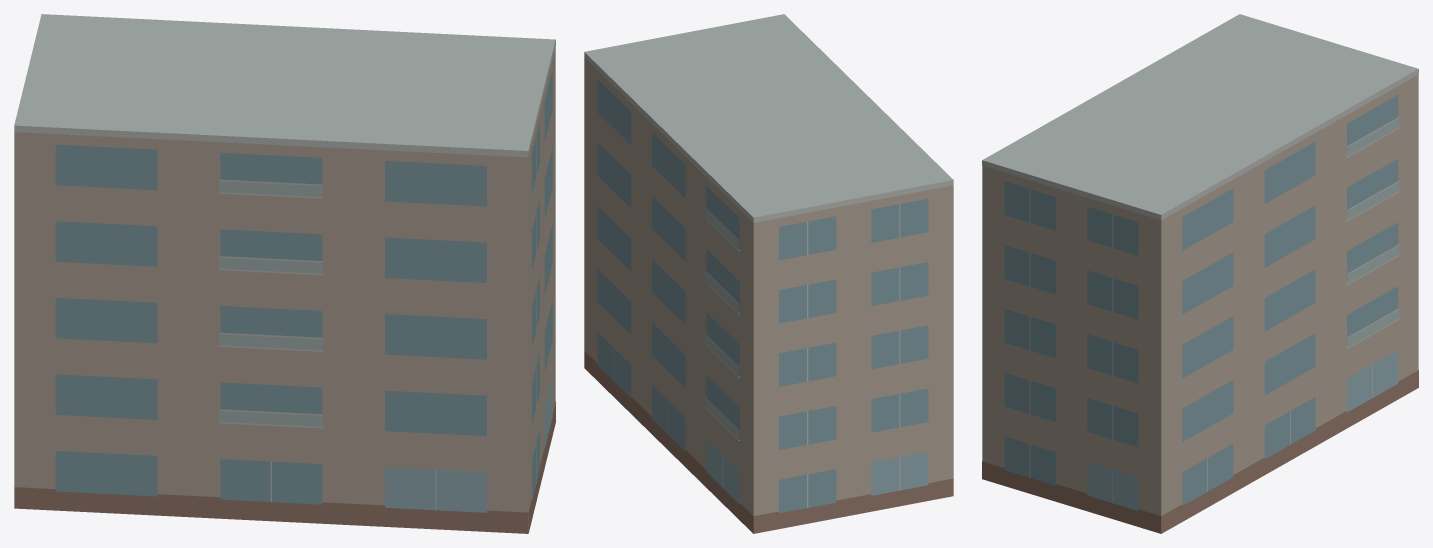
File: survey-upis-32656904.glb
3 views of the same model, side by side, from view 1: azimuth 30°, elevation 25°; view 2: azimuth 150°, elevation 25°; view 3: azimuth 270°, elevation 25° (orthographic). The views are drawn at different scales.
Parts seen in each view (by area): view 1: survey-upis-32656904.tmp; view 2: survey-upis-32656904.tmp; view 3: survey-upis-32656904.tmp.
Boxes of the visible parts, x1,y1,x2,y2 form: survey-upis-32656904.tmp: [14, 14, 555, 533]; survey-upis-32656904.tmp: [584, 14, 953, 533]; survey-upis-32656904.tmp: [982, 14, 1418, 533].
Bounding box in the file's own units: 19.4 × 14.35 × 17.81.
